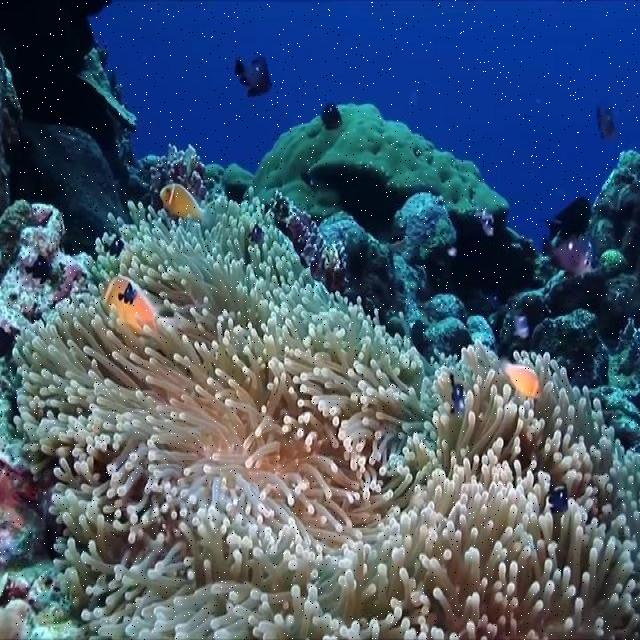fish: (101, 277, 155, 332), (159, 184, 216, 225), (500, 357, 542, 396), (233, 56, 272, 96)
reefs: (8, 186, 639, 639)
sea-floor: (0, 0, 639, 639)
